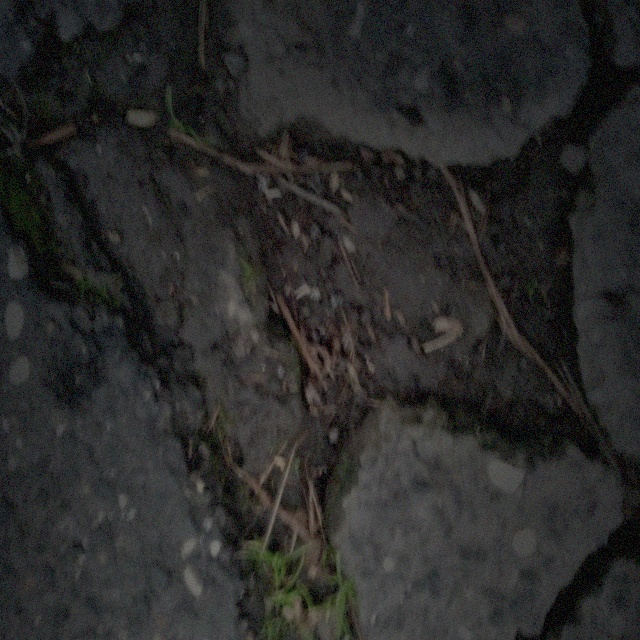pothole: (7, 17, 615, 594)
